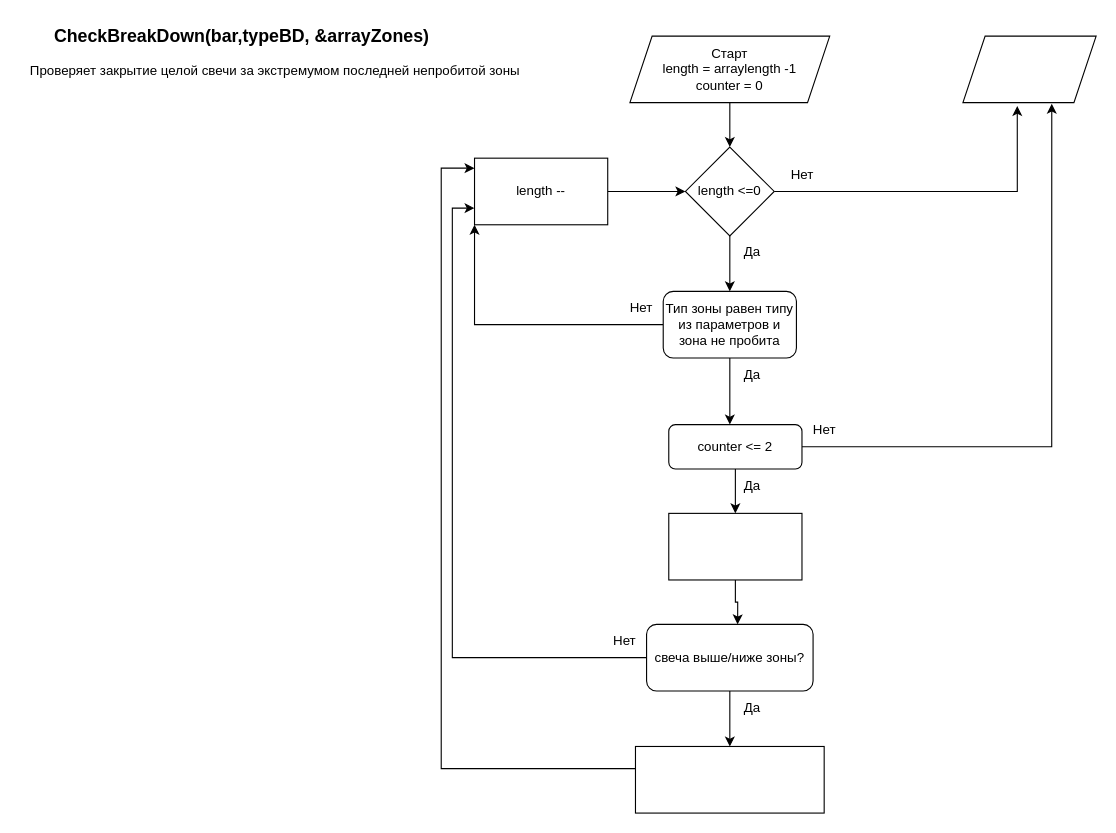
Image size: 1116x833. Some labels were removed from this diagram. The shapes that lost their labels are listed below. From the top down, each one's centre as x and y in pixels, then its label:
At point 1029,69: "Выход".
At point 735,546: "counter ++".
At point 729,779: "пробой зоны".
